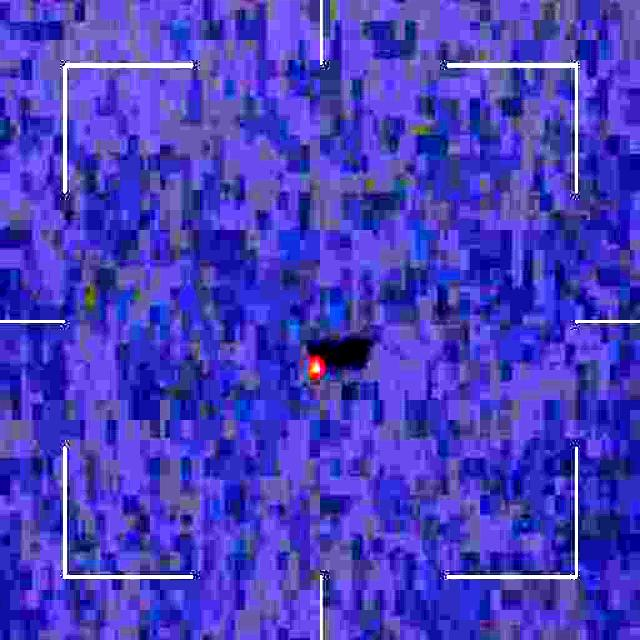bird: (301, 345, 334, 391)
